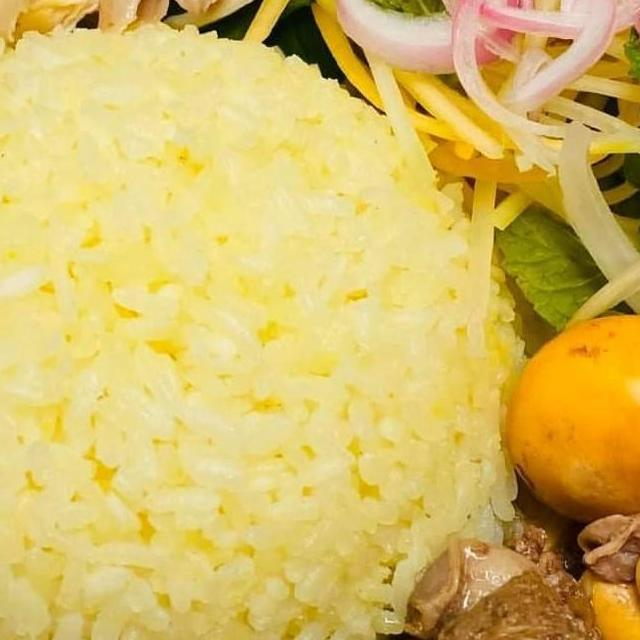com: (0, 14, 542, 640)
com ga: (0, 0, 640, 640)
trung: (494, 297, 640, 536)
